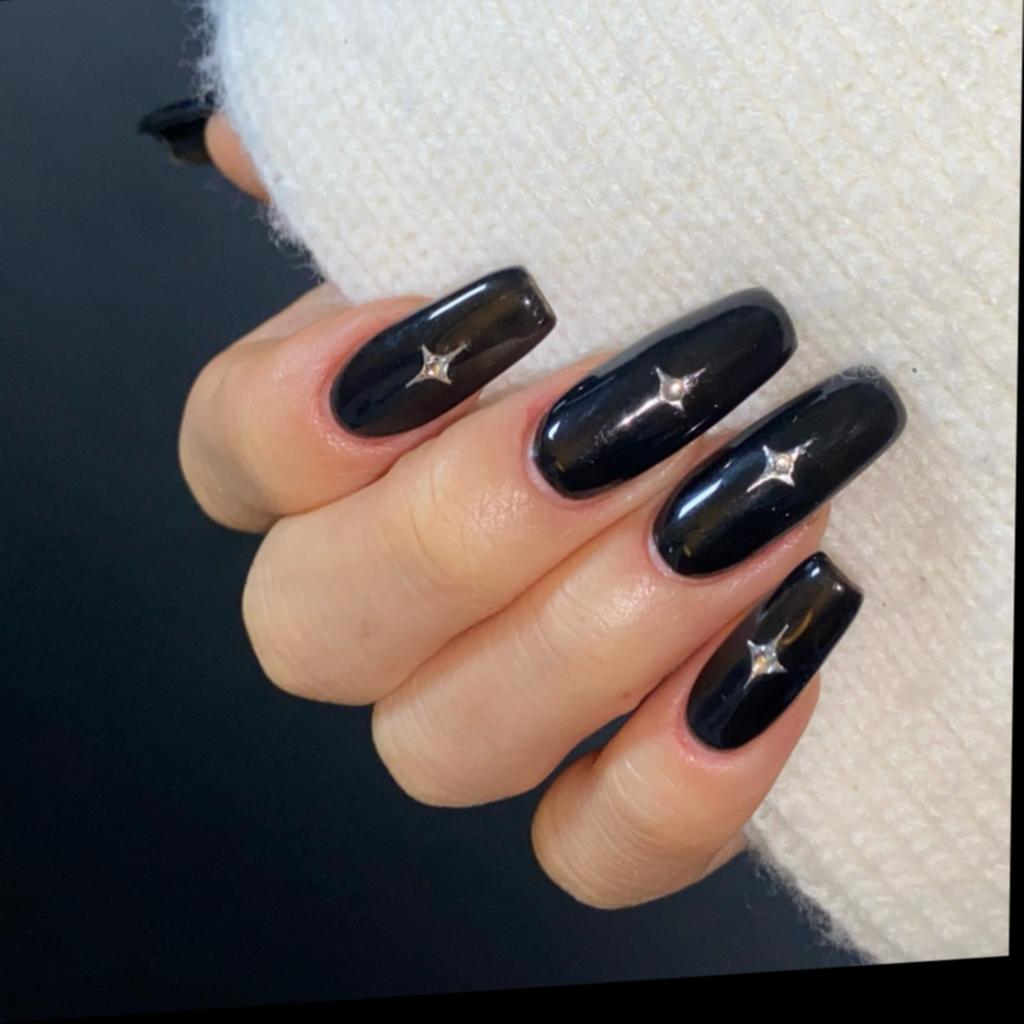nail: (648, 361, 908, 583), (526, 296, 797, 506), (325, 263, 557, 444), (680, 549, 864, 757), (133, 93, 217, 171)
